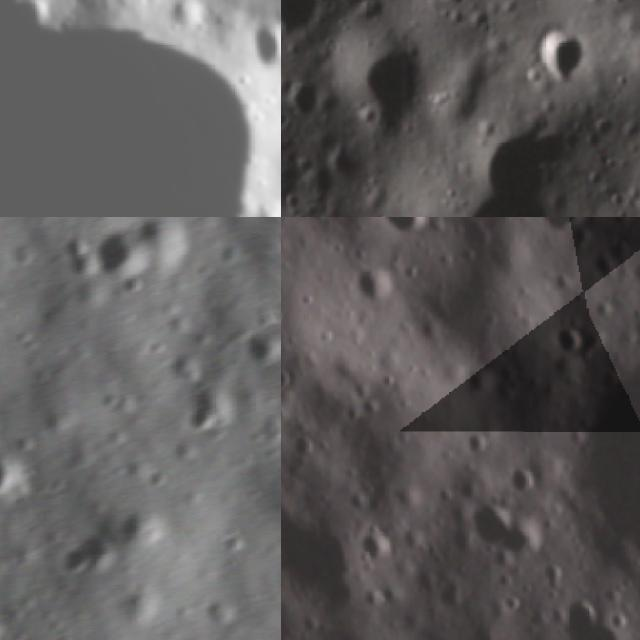crater: (0, 0, 281, 217), (509, 292, 640, 630), (281, 489, 395, 640), (281, 286, 332, 481), (350, 35, 428, 141), (78, 220, 158, 301), (48, 525, 122, 593), (544, 575, 619, 640), (454, 484, 520, 553), (446, 348, 512, 414), (128, 217, 195, 280), (528, 24, 593, 86), (344, 255, 406, 317), (234, 9, 281, 84), (543, 309, 601, 369), (224, 322, 281, 381), (515, 217, 601, 252), (175, 394, 229, 448), (191, 586, 244, 640), (495, 450, 547, 504), (450, 416, 500, 468), (0, 444, 31, 527), (366, 217, 438, 247), (153, 0, 205, 39), (281, 76, 323, 122), (281, 0, 324, 43), (618, 248, 640, 297), (605, 191, 630, 214), (268, 314, 280, 352)
